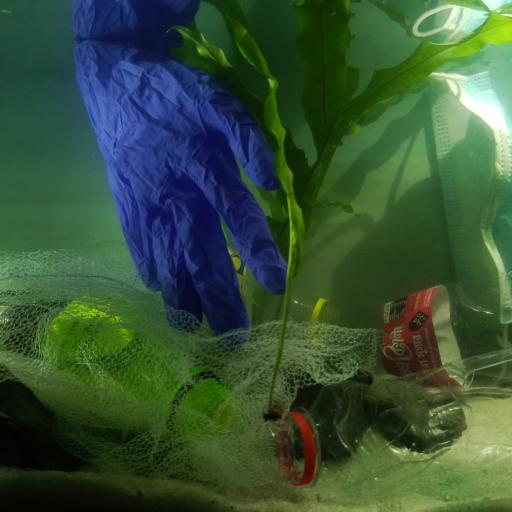glove: (75, 37, 302, 350)
mask: (417, 0, 512, 326)
plastic_bottle: (2, 247, 390, 495), (0, 298, 237, 447), (261, 354, 512, 486), (351, 279, 512, 393), (207, 240, 334, 332)
